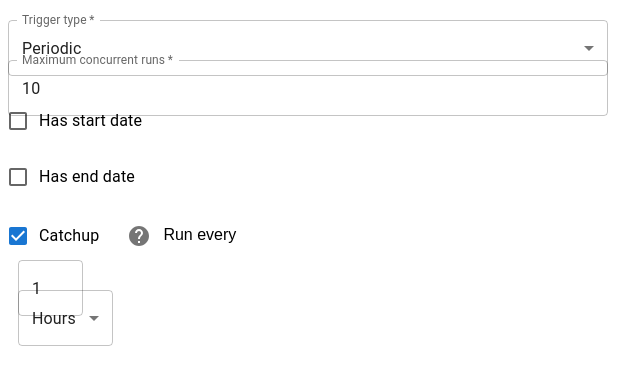
Scenario: Trigger › interval trigger › Show invalid end date/time format message if date has wrong format.
Click the checkbox labelled "Has end date" at (70, 177), box [6,165,135,189]
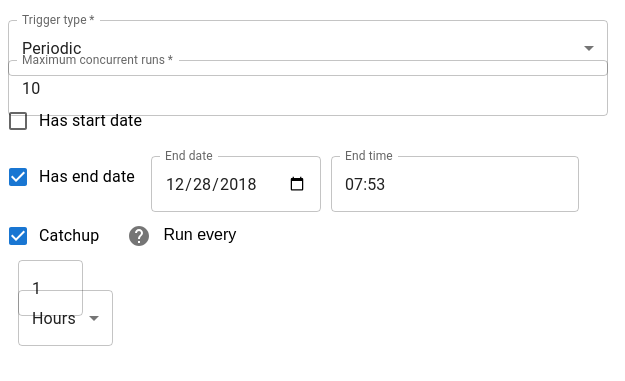
Replace the text in the field labelled "End time" with "this_is_not_valid_time_format" at (455, 184), box [331,156,579,212]
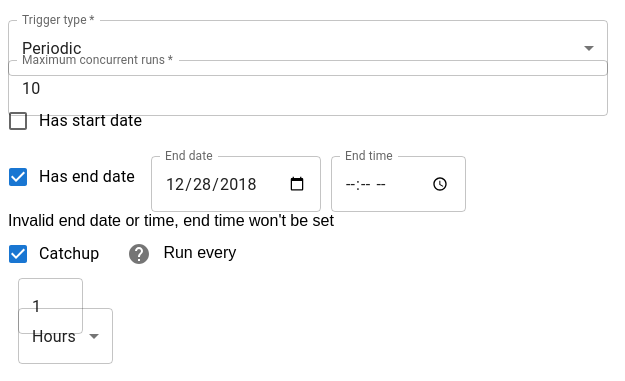
Expected: the text "Invalid end date or time, end time won't be set" is shown, [8,212,334,229]
Type "11:22" into the time field labelled "End time" at (398, 184), box [331,156,466,212]
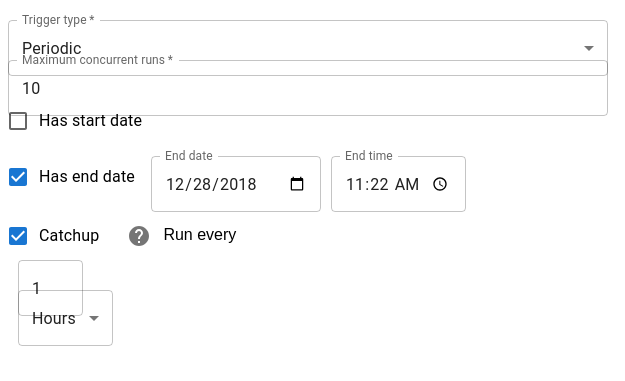
Expected: the text "Invalid end date or time, end time won't be set" is gone
